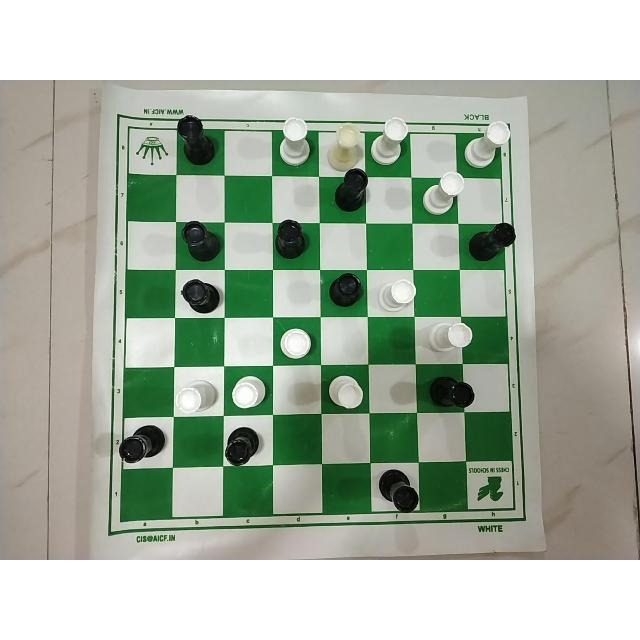black-rook: (173, 113, 219, 167), (118, 422, 168, 470), (374, 467, 424, 513), (427, 370, 477, 414), (469, 221, 517, 265), (179, 219, 223, 265), (221, 424, 265, 468), (333, 165, 370, 215), (273, 217, 311, 264), (179, 277, 224, 313), (327, 271, 366, 311)
white-rook: (462, 120, 510, 170), (421, 167, 467, 218), (275, 113, 314, 170), (372, 117, 410, 166), (174, 374, 218, 416), (326, 123, 364, 171), (428, 318, 476, 356), (375, 277, 418, 315), (326, 371, 366, 410), (228, 375, 270, 411), (277, 325, 315, 361)
